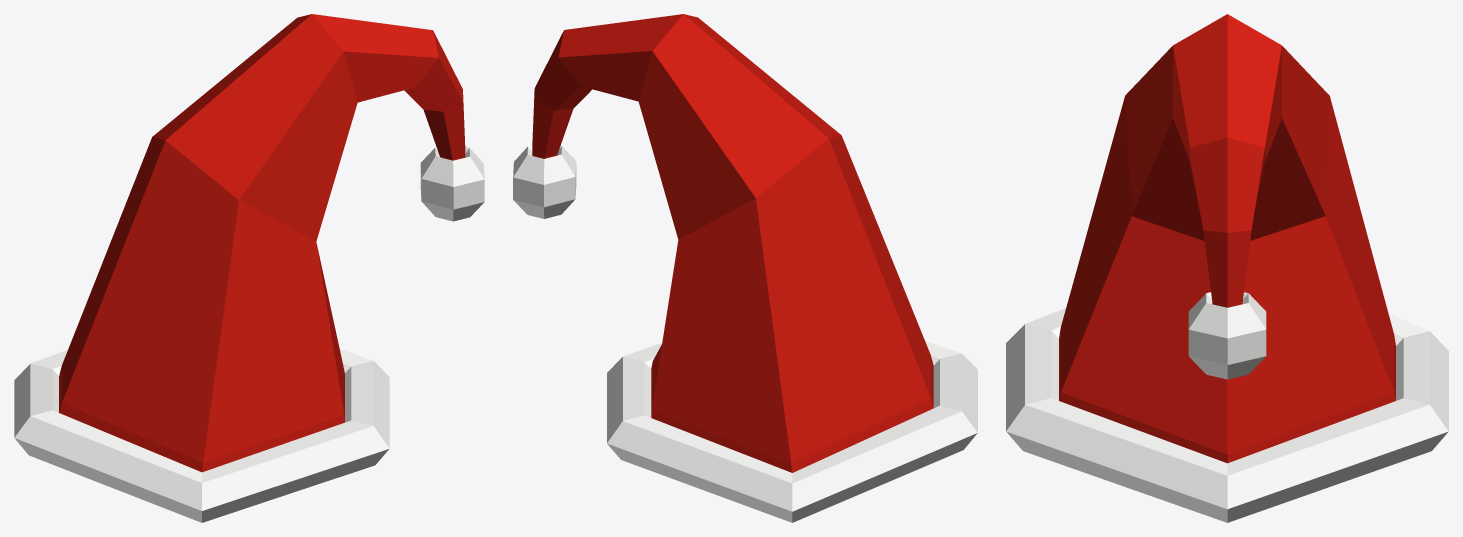
File: Santa hat.fbx
The picture shows the model from 3 angles, left to right: view 1: azimuth 30°, elevation 25°; view 2: azimuth 150°, elevation 25°; view 3: azimuth 270°, elevation 25°; orthographic projection. The views are drawn at different scales.
Parts seen in each view (by area): view 1: Circle; view 2: Circle; view 3: Circle.
Boxes of the visible parts, <box> form: Circle: <box>14,14,484,522</box>; Circle: <box>513,14,977,522</box>; Circle: <box>1006,14,1448,522</box>.
Bounding box in the file's own units: 328 × 270 × 227.
Materials: 1 (1 with a texture image).
